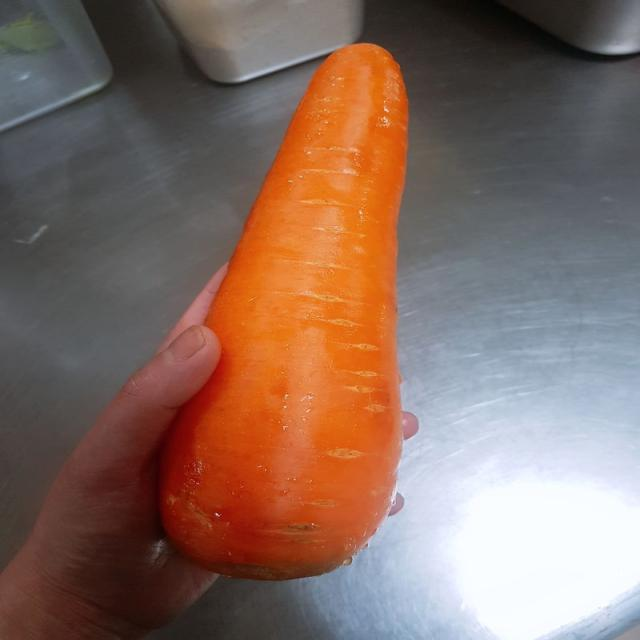carrot: (170, 35, 422, 589)
